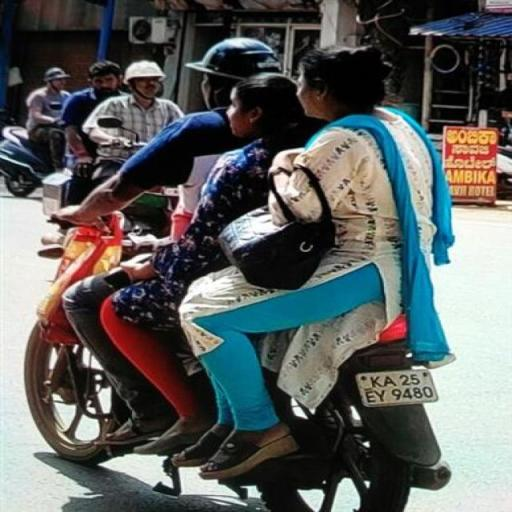tripple riding: (50, 34, 464, 322)
